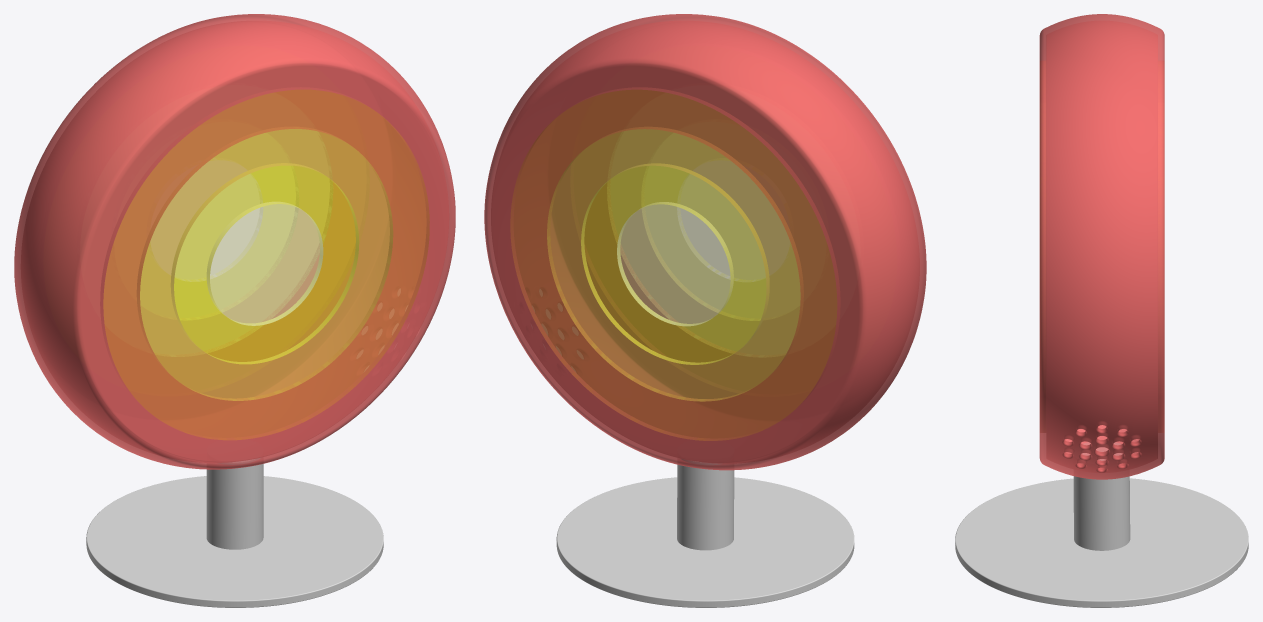
The model's file is richuhuanxing_l_z_w.glb.
3 renders of one model, left to right at view 1: azimuth 30°, elevation 25°; view 2: azimuth 150°, elevation 25°; view 3: azimuth 270°, elevation 25°, orthographic.
Visible parts, largest first — view 1: 壳(F256FD55-E3A2-4475-8BFE-E584CE06EC22), 4(D2F7EA90-F8AD-4A9C-B36D-39AAB09C3C64), back(837743D6-830A-4F17-9234-632D23C87CD7), 3(488A4253-B7D6-4841-8332-1B38C174E2FE), 2(05BA36FF-B27E-4DAC-83F7-384741E62543), 4(F1ADD400-54F2-4F0C-8382-44E1F3FB3839), 1(1AE64032-F063-4FE4-A231-DB165E1FBC1D), 3(BC81AF5B-B946-4A94-A645-B24A2F44A9F1), 2(360F3D62-AB65-40D7-8013-7185FE5C65AB), 1(44D1306B-4DF0-4A8C-B7FC-9EC6F48D2D0D), 连接(789FC250-5F53-4958-8CD4-E0FECB866733); view 2: 壳(F256FD55-E3A2-4475-8BFE-E584CE06EC22), 4(F1ADD400-54F2-4F0C-8382-44E1F3FB3839), back(837743D6-830A-4F17-9234-632D23C87CD7), 3(BC81AF5B-B946-4A94-A645-B24A2F44A9F1), 2(360F3D62-AB65-40D7-8013-7185FE5C65AB), 4(D2F7EA90-F8AD-4A9C-B36D-39AAB09C3C64), 1(44D1306B-4DF0-4A8C-B7FC-9EC6F48D2D0D), 3(488A4253-B7D6-4841-8332-1B38C174E2FE), 2(05BA36FF-B27E-4DAC-83F7-384741E62543), 1(1AE64032-F063-4FE4-A231-DB165E1FBC1D), 连接(789FC250-5F53-4958-8CD4-E0FECB866733); view 3: 壳(F256FD55-E3A2-4475-8BFE-E584CE06EC22), back(837743D6-830A-4F17-9234-632D23C87CD7), 连接(789FC250-5F53-4958-8CD4-E0FECB866733).
Part boxes in pixels (left/top/right/bottom): 壳(F256FD55-E3A2-4475-8BFE-E584CE06EC22): left=14, top=14, right=455, bottom=469; 4(D2F7EA90-F8AD-4A9C-B36D-39AAB09C3C64): left=103, top=89, right=429, bottom=440; back(837743D6-830A-4F17-9234-632D23C87CD7): left=86, top=476, right=383, bottom=607; 3(488A4253-B7D6-4841-8332-1B38C174E2FE): left=137, top=127, right=393, bottom=400; 2(05BA36FF-B27E-4DAC-83F7-384741E62543): left=171, top=163, right=359, bottom=364; 4(F1ADD400-54F2-4F0C-8382-44E1F3FB3839): left=155, top=132, right=369, bottom=392; 1(1AE64032-F063-4FE4-A231-DB165E1FBC1D): left=207, top=202, right=323, bottom=325; 3(BC81AF5B-B946-4A94-A645-B24A2F44A9F1): left=141, top=129, right=332, bottom=356; 2(360F3D62-AB65-40D7-8013-7185FE5C65AB): left=140, top=133, right=298, bottom=319; 1(44D1306B-4DF0-4A8C-B7FC-9EC6F48D2D0D): left=175, top=174, right=262, bottom=281; 连接(789FC250-5F53-4958-8CD4-E0FECB866733): left=206, top=458, right=263, bottom=549; 壳(F256FD55-E3A2-4475-8BFE-E584CE06EC22): left=484, top=14, right=926, bottom=470; 4(F1ADD400-54F2-4F0C-8382-44E1F3FB3839): left=510, top=88, right=837, bottom=440; back(837743D6-830A-4F17-9234-632D23C87CD7): left=556, top=477, right=854, bottom=607; 3(BC81AF5B-B946-4A94-A645-B24A2F44A9F1): left=547, top=129, right=802, bottom=401; 2(360F3D62-AB65-40D7-8013-7185FE5C65AB): left=581, top=164, right=768, bottom=364; 4(D2F7EA90-F8AD-4A9C-B36D-39AAB09C3C64): left=570, top=132, right=784, bottom=392; 1(44D1306B-4DF0-4A8C-B7FC-9EC6F48D2D0D): left=617, top=202, right=733, bottom=325; 3(488A4253-B7D6-4841-8332-1B38C174E2FE): left=607, top=129, right=799, bottom=356; 2(05BA36FF-B27E-4DAC-83F7-384741E62543): left=642, top=133, right=799, bottom=320; 1(1AE64032-F063-4FE4-A231-DB165E1FBC1D): left=677, top=174, right=765, bottom=281; 连接(789FC250-5F53-4958-8CD4-E0FECB866733): left=677, top=459, right=734, bottom=550; 壳(F256FD55-E3A2-4475-8BFE-E584CE06EC22): left=1039, top=14, right=1164, bottom=479; back(837743D6-830A-4F17-9234-632D23C87CD7): left=955, top=478, right=1248, bottom=607; 连接(789FC250-5F53-4958-8CD4-E0FECB866733): left=1073, top=442, right=1130, bottom=550.
Size of the model in its own units: 0.2853 by 0.3453 by 0.1799.
